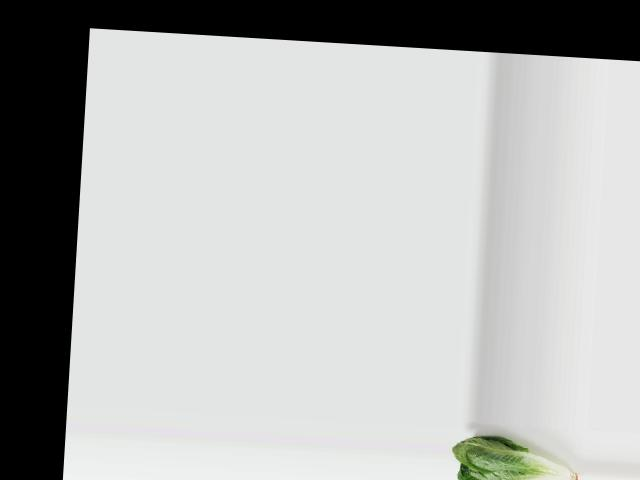lettuce: (449, 430, 587, 480)
